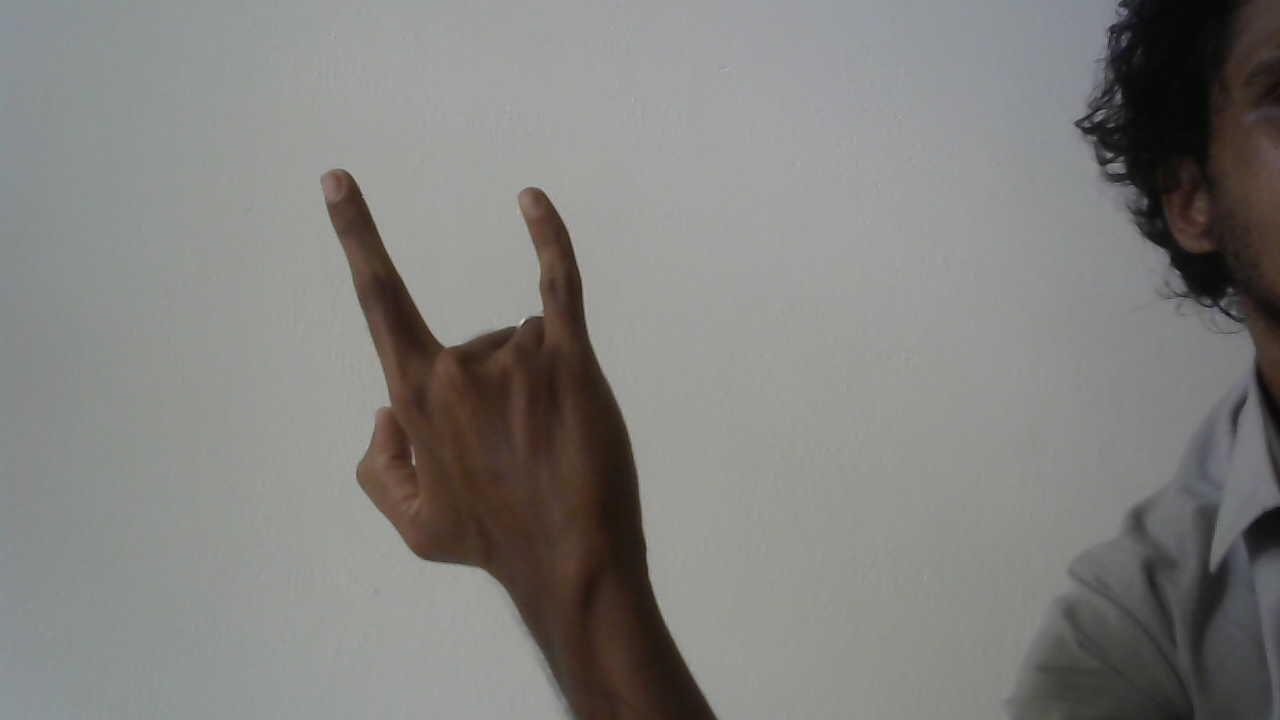iloveyou: (309, 156, 663, 584)
